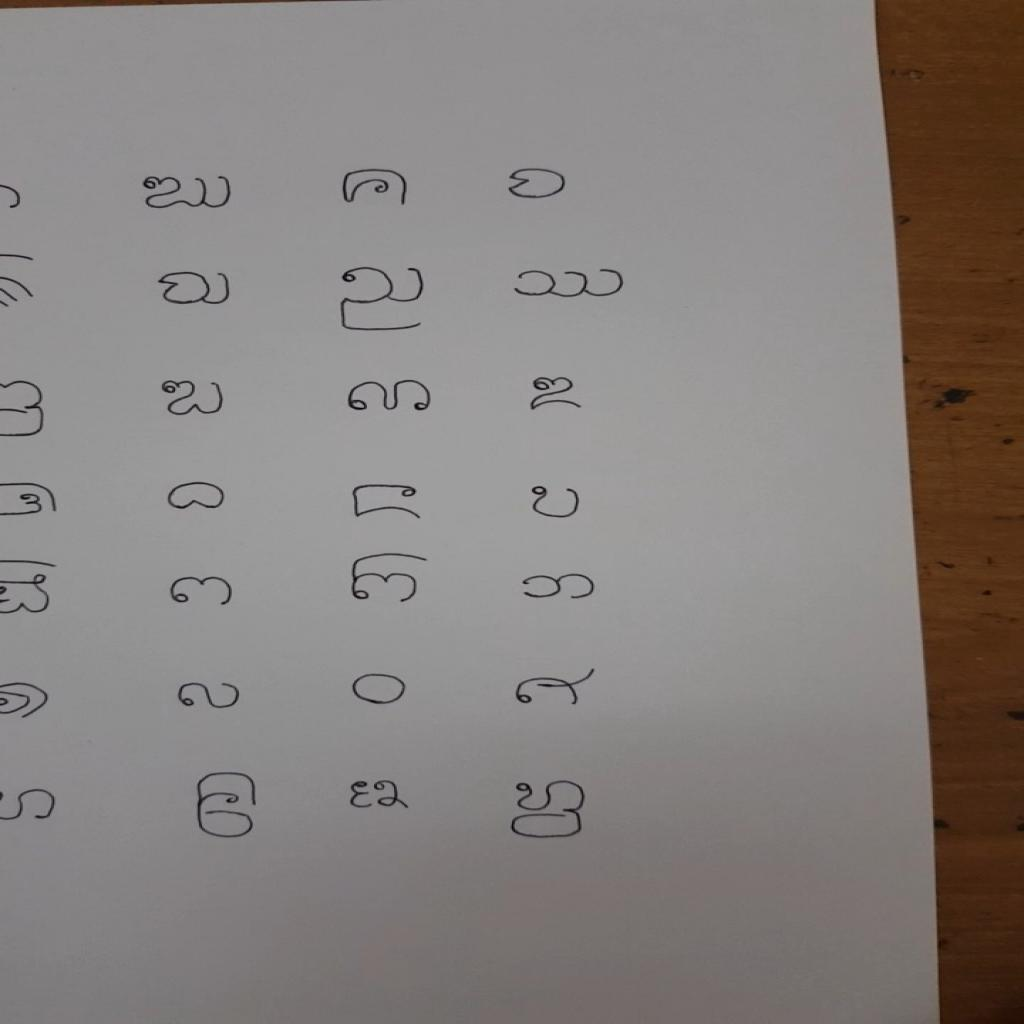LN004: (135, 171, 242, 214)
LN005: (336, 164, 420, 212)
LN006: (501, 165, 574, 205)
LN010: (150, 268, 242, 311)
LN011: (332, 263, 435, 337)
LN012: (504, 264, 635, 304)
LN016: (153, 376, 236, 420)
LN017: (340, 376, 441, 418)
LN018: (524, 373, 590, 417)
LN022: (161, 477, 234, 514)
LN023: (344, 480, 431, 526)
LN024: (523, 481, 590, 524)
LN028: (163, 572, 243, 612)
LN029: (344, 549, 439, 609)
LN030: (514, 570, 606, 606)
LN034: (170, 678, 250, 714)
LN035: (345, 669, 417, 710)
LN036: (508, 664, 608, 713)
LN040: (190, 768, 267, 843)
LN041: (339, 775, 416, 814)
LN042: (503, 776, 596, 844)
